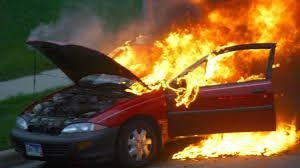fire: (115, 0, 296, 108), (171, 123, 297, 160)
